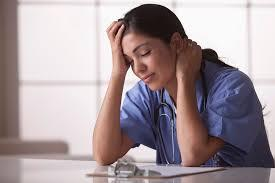sleep: (94, 6, 208, 146)
